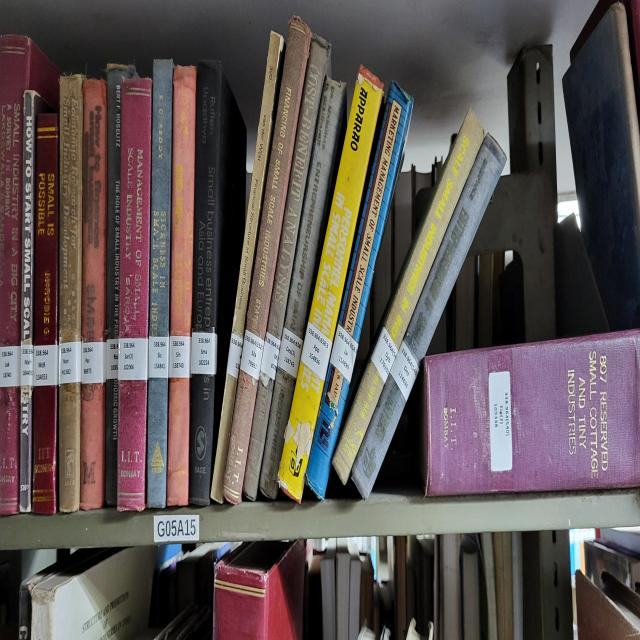Book: (334, 111, 484, 482), (279, 68, 382, 501), (305, 84, 412, 498), (224, 22, 310, 503), (242, 38, 330, 501), (420, 330, 640, 495), (260, 78, 346, 498), (211, 32, 284, 503), (0, 35, 59, 514), (189, 62, 246, 506), (405, 154, 499, 363), (118, 78, 152, 511), (105, 65, 136, 506), (166, 65, 196, 506), (19, 89, 49, 511), (148, 60, 174, 506), (80, 78, 106, 509), (59, 76, 84, 511), (32, 114, 59, 514), (351, 373, 405, 498)
Label: (489, 371, 512, 471), (301, 322, 332, 381), (390, 341, 419, 400), (330, 325, 358, 384), (371, 327, 398, 381), (118, 338, 148, 381), (278, 327, 302, 379), (240, 330, 264, 379), (32, 344, 59, 387), (191, 333, 218, 376), (81, 341, 106, 384), (260, 333, 281, 381), (169, 335, 191, 379), (59, 341, 81, 384), (149, 335, 169, 379), (0, 346, 21, 387), (226, 333, 242, 379), (20, 344, 34, 387), (106, 338, 119, 379)
